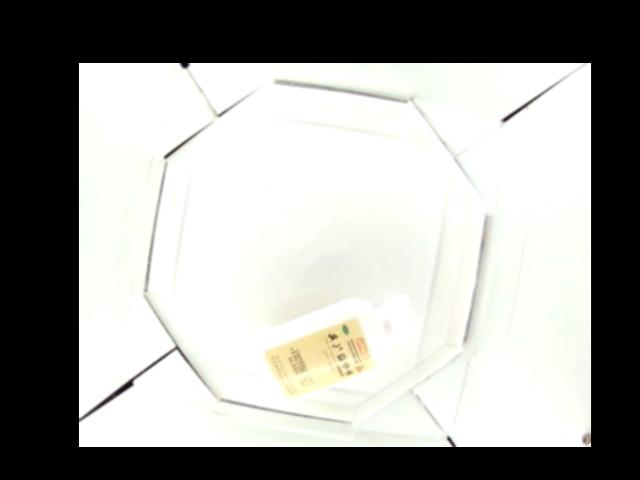Bottle: (251, 293, 421, 399)
